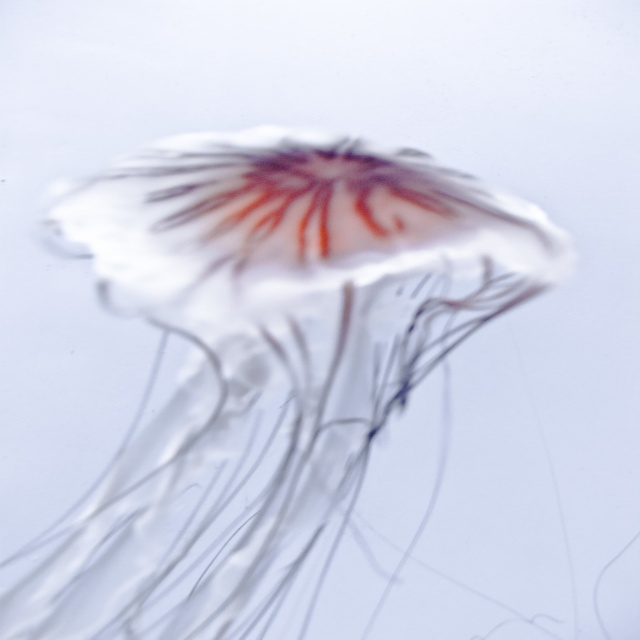Jellyfish: (21, 121, 620, 612)
